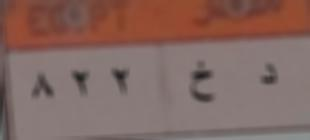2: (64, 63, 96, 102), (108, 60, 134, 100)
8: (28, 62, 58, 109)
daal: (253, 58, 281, 92)
khaa: (183, 54, 218, 110)
